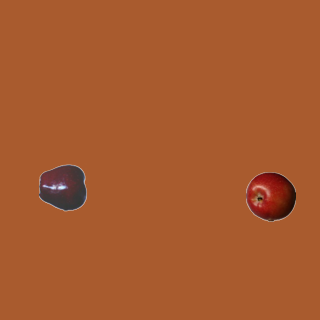Apple Braeburn: (245, 171, 295, 221)
Apple Red Delicious: (38, 162, 88, 212)
